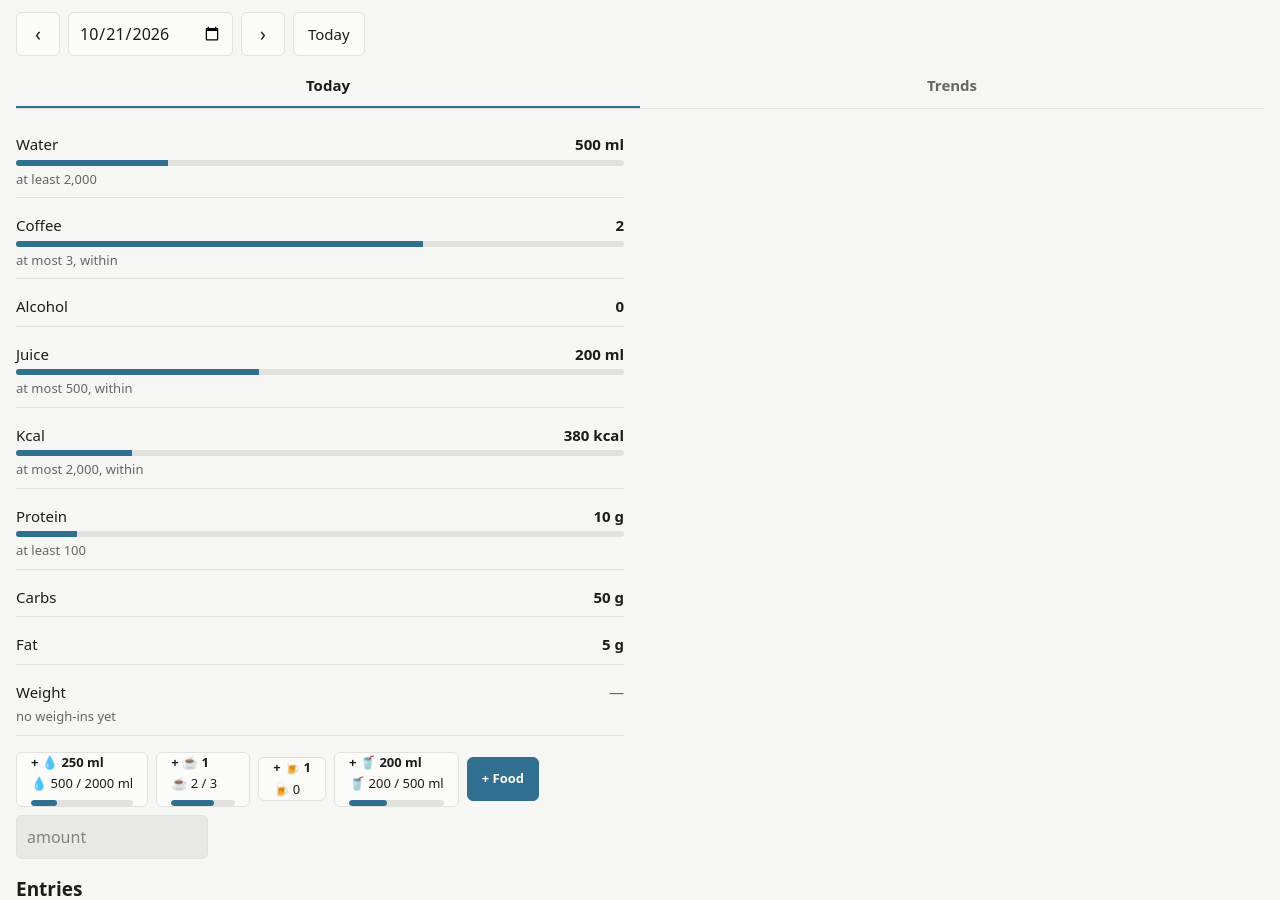
Test: #804 I6 switching tabs on a phone keeps the day and the cursor, and j still moves it
Press j in the element named "Log"
Click the tab "Trends".
click(952, 86)  # box [640, 64, 1264, 108]
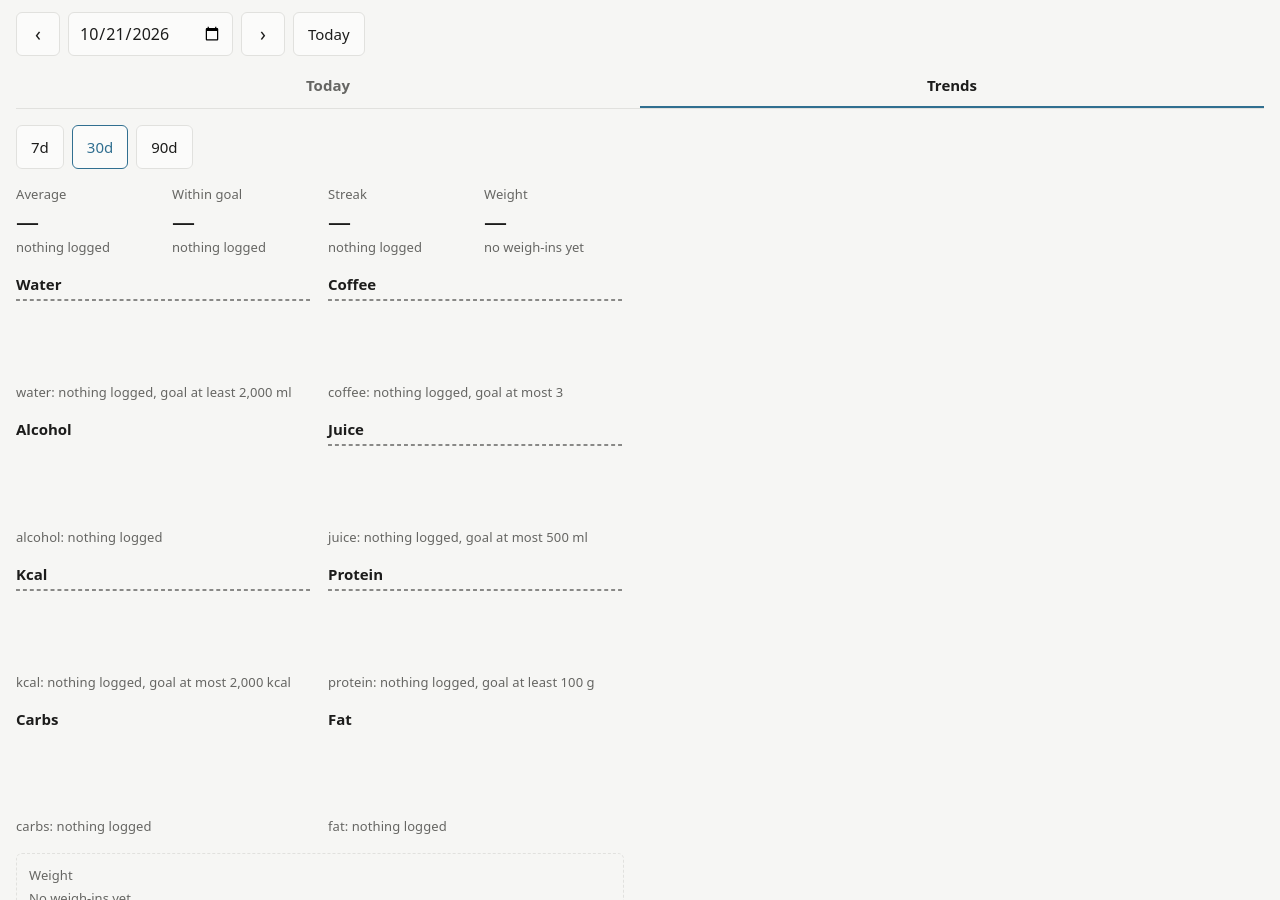
expect the date field named "Day" holds "2026-10-21": met, box [68, 12, 233, 56]
Press j in the element "log"
Click the tab "Today".
click(328, 86)  # box [16, 64, 640, 108]
(page scrolled)
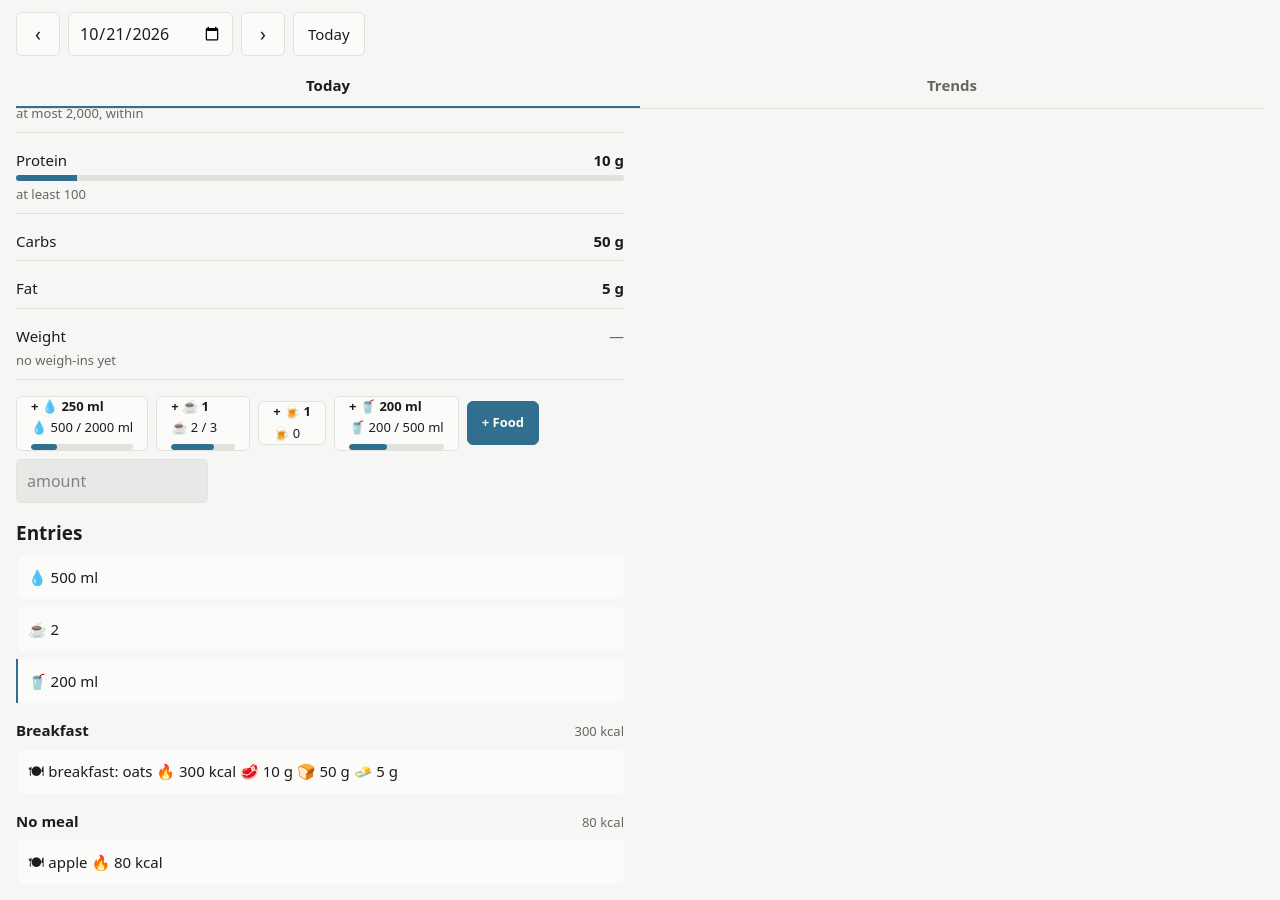
expect the date field named "Day" holds "2026-10-21": met, box [68, 12, 233, 56]
expect the list item "🥤 200 ml" is shown: met, box [16, 659, 624, 703]
